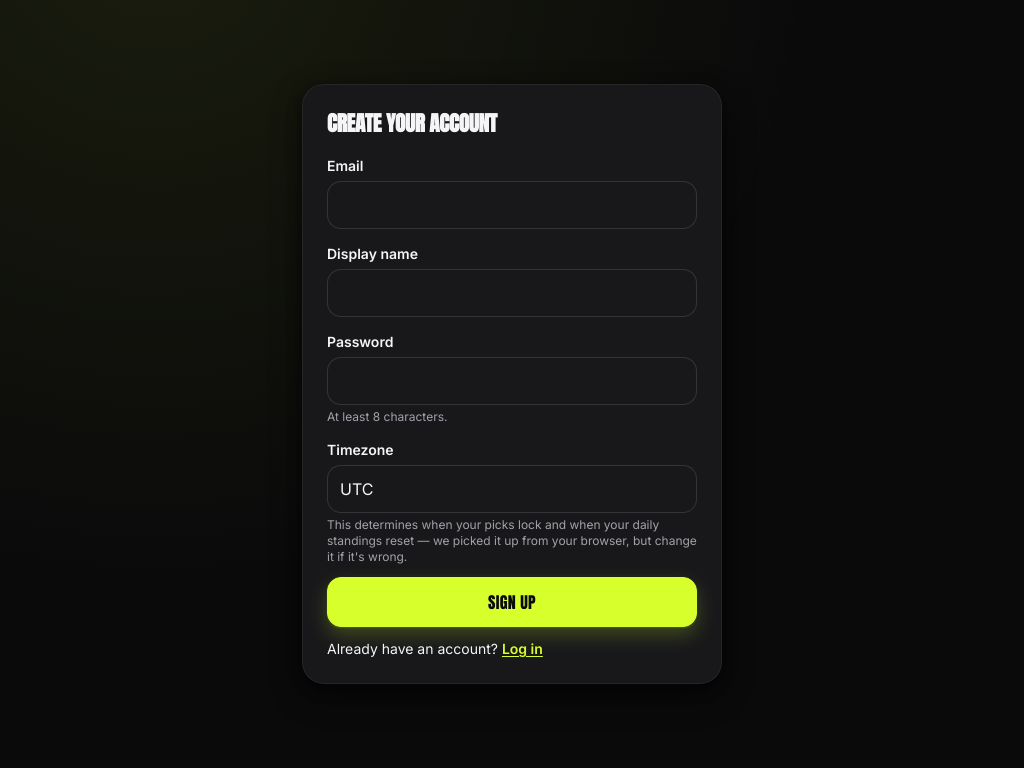
Test: SignupScreen › on success, auto-logs in with the just-submitted credentials and navigates into the app — no verification gate
The image size is (1024, 768).
Type "a@example.com" into the field labelled "Email" at (512, 205), box 327,181 -> 697,229
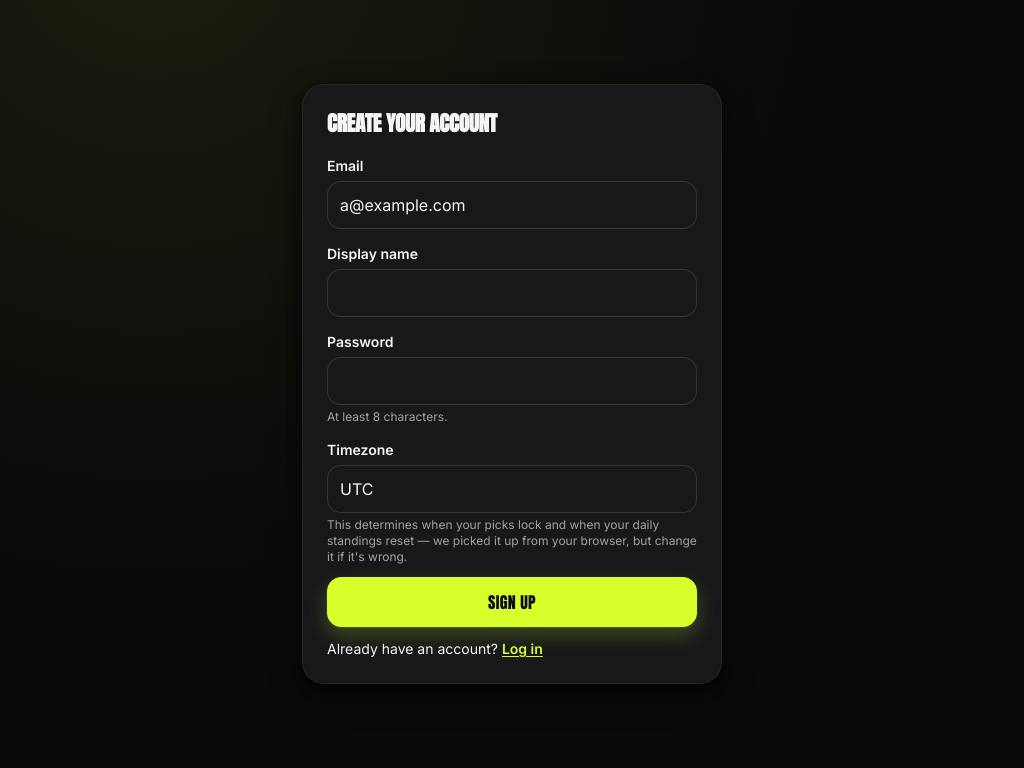
Type "Test" into the field labelled "Display name" at (512, 293), box 327,269 -> 697,317
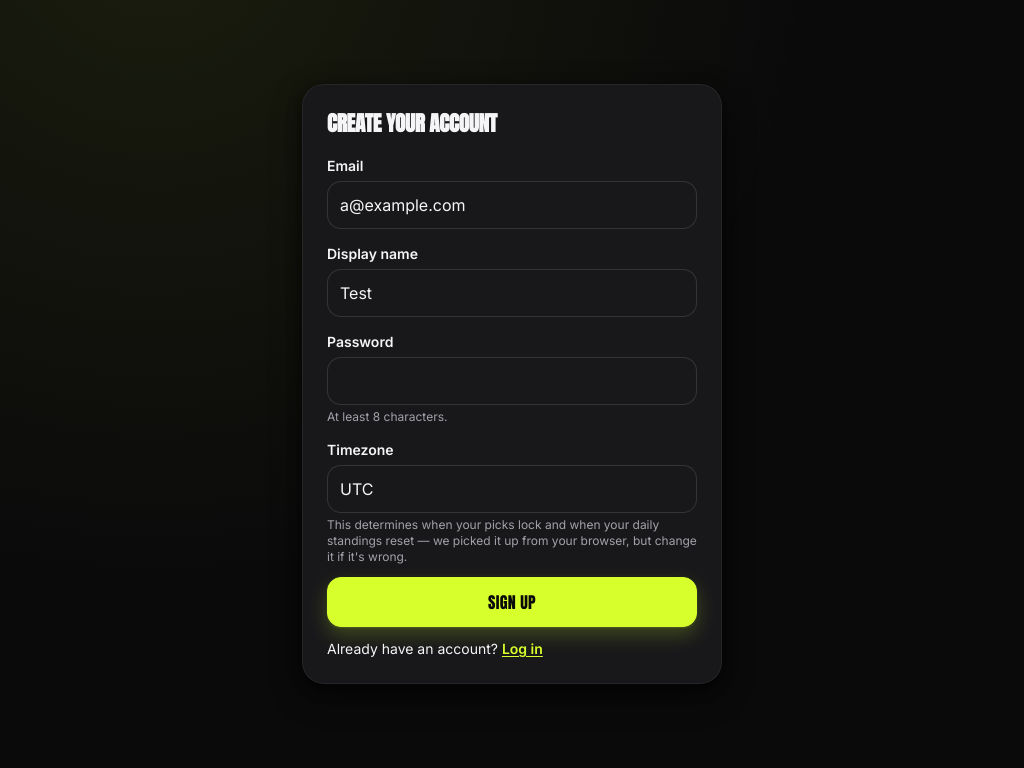
Type "password123" into the password field labelled "Password" at (512, 381), box 327,357 -> 697,405
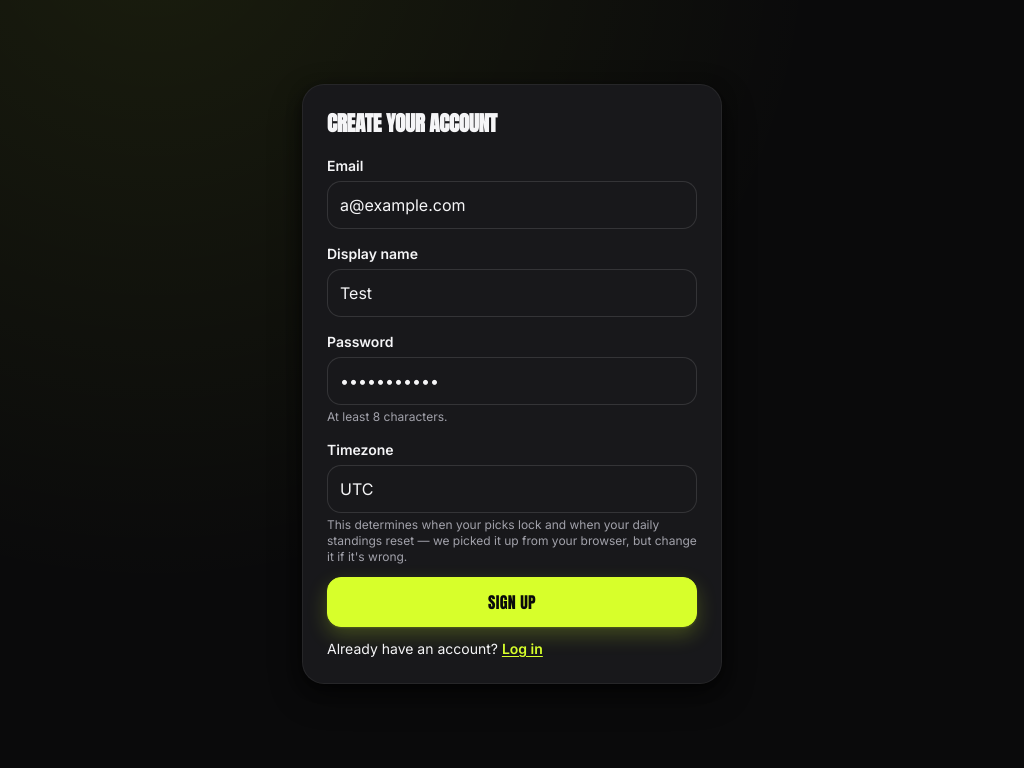
Click the button "Sign up" at (512, 602), box 327,577 -> 697,627
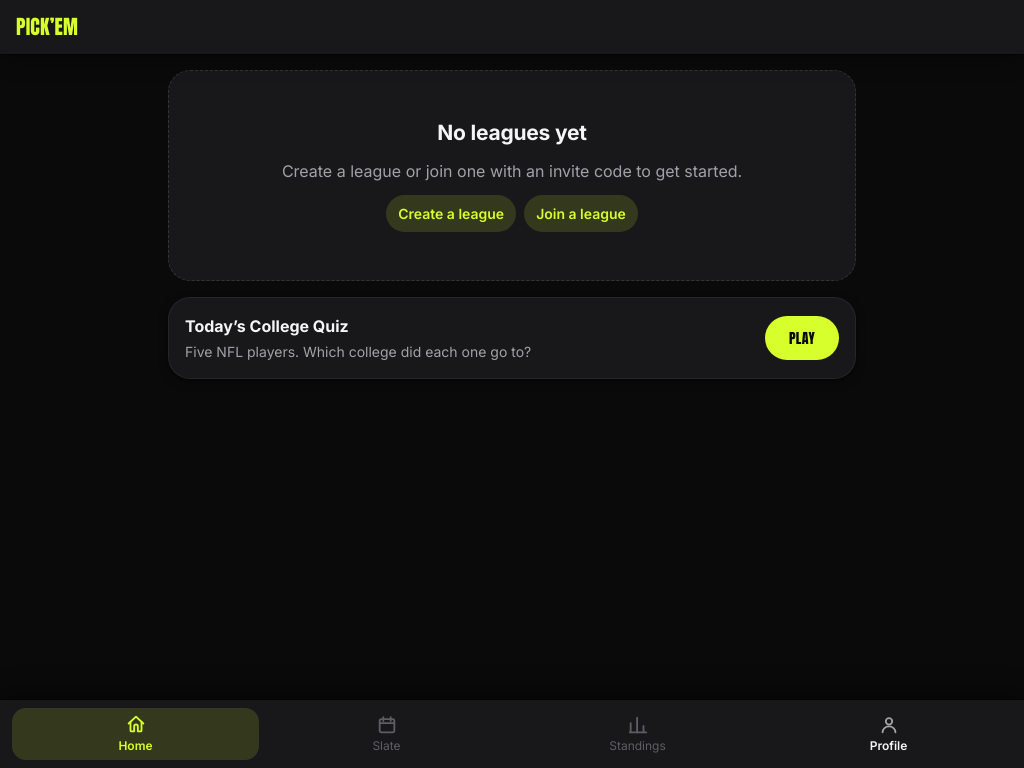
Expected: the navigation bar named "Primary" is shown, 0,700 -> 1023,767
